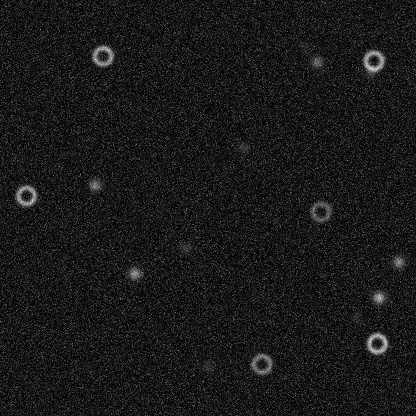Ring: (14, 183, 38, 207), (361, 48, 385, 72), (364, 331, 388, 355), (249, 351, 273, 375), (90, 43, 114, 67), (308, 199, 332, 223)
Spot: (200, 358, 216, 374), (362, 63, 378, 79), (390, 253, 406, 269), (348, 308, 364, 324), (177, 239, 193, 255), (370, 289, 386, 305), (309, 53, 325, 69), (126, 265, 142, 281), (86, 176, 102, 192), (295, 37, 311, 53), (235, 140, 251, 156)
